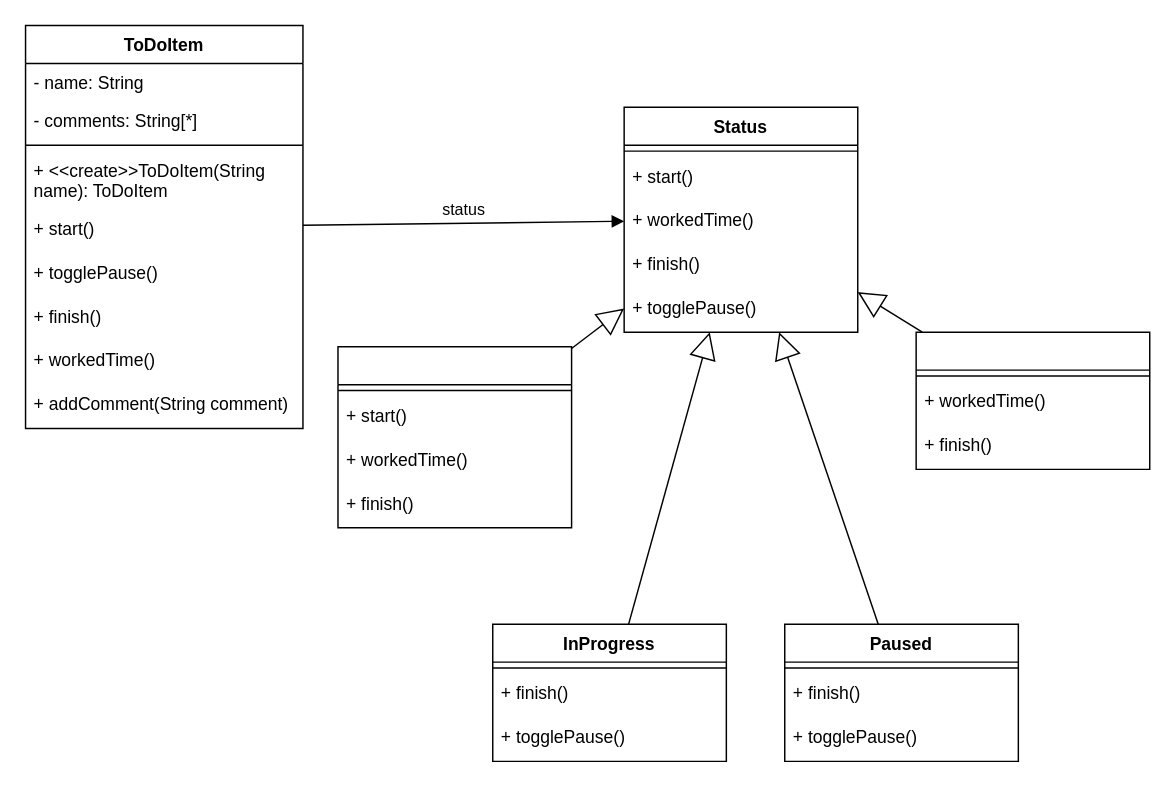
Image size: 1175x791. Some labels were removed from this diagram. Each missing label, with the box of its shape:
Finished: (915, 331, 1150, 469)
Pending: (337, 345, 572, 528)
